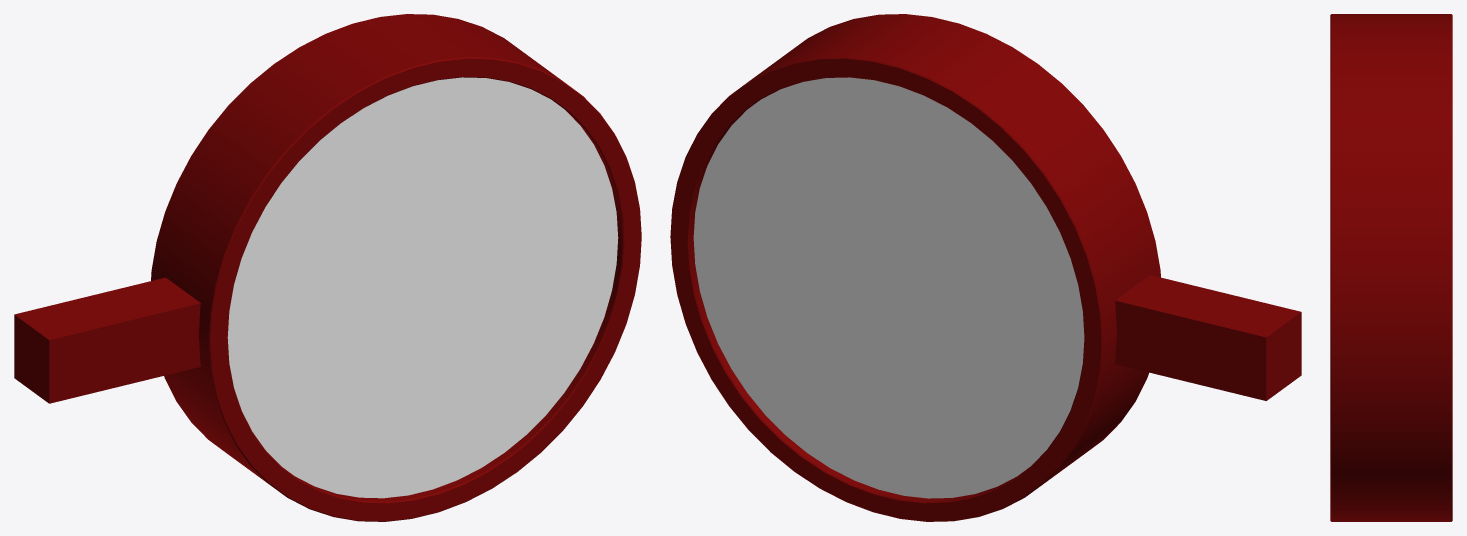
File: wall_clock.fbx
3 views of the same model, side by side, from view 1: azimuth 30°, elevation 25°; view 2: azimuth 150°, elevation 25°; view 3: azimuth 270°, elevation 25° (orthographic).
Parts seen in each view (by area): view 1: wall_clock; view 2: wall_clock; view 3: wall_clock.
Boxes of the visible parts, x1,y1,x2,y2 form: wall_clock: (14,14,641,521); wall_clock: (670,14,1301,521); wall_clock: (1330,14,1452,521).
Bounding box in the file's own units: 21.85 × 16.21 × 3.91.
